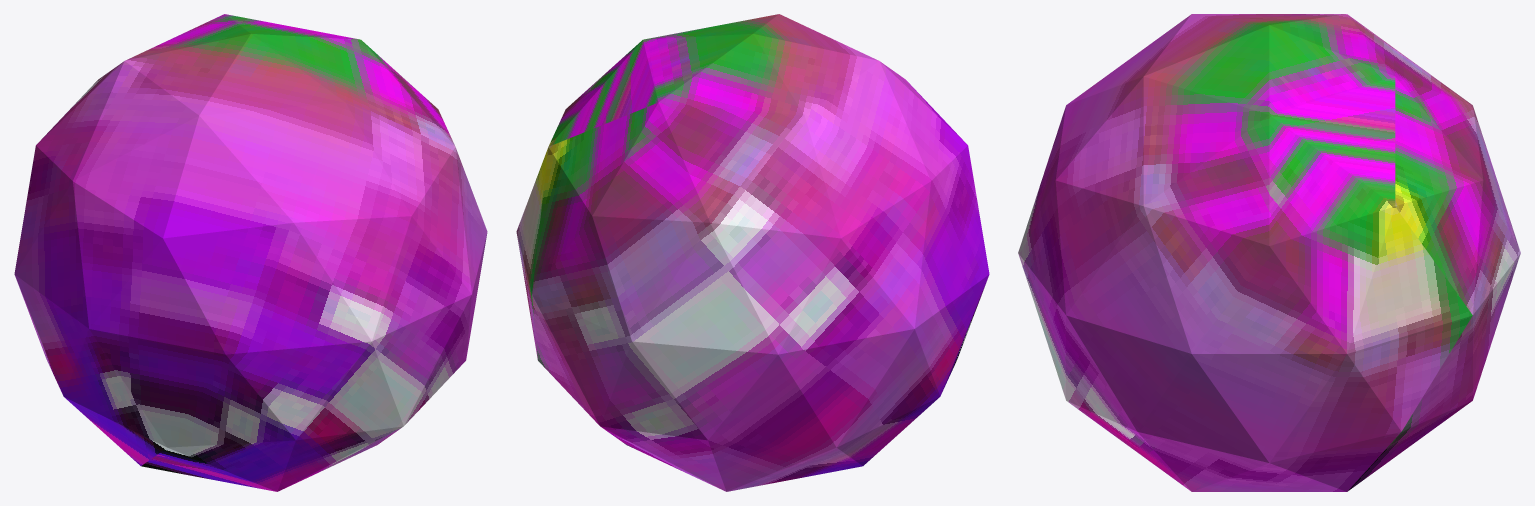
File: moon.glb
The picture shows the model from 3 angles, left to right: view 1: azimuth 30°, elevation 25°; view 2: azimuth 150°, elevation 25°; view 3: azimuth 270°, elevation 25°; orthographic projection. The views are drawn at different scales.
Visible parts, largest first — view 1: Moon; view 2: Moon; view 3: Moon.
Part boxes in pixels (x1,y1,x2,y2): Moon: (14, 14, 487, 491); Moon: (516, 14, 989, 491); Moon: (1018, 14, 1520, 491).
Size of the model in its own units: 1.9 by 2 by 2.
Materials: 1 (1 with a texture image).
